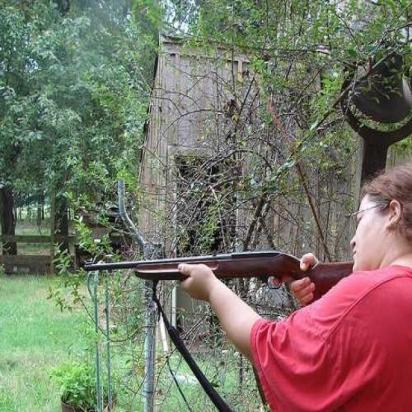Gun: (56, 206, 377, 312)
